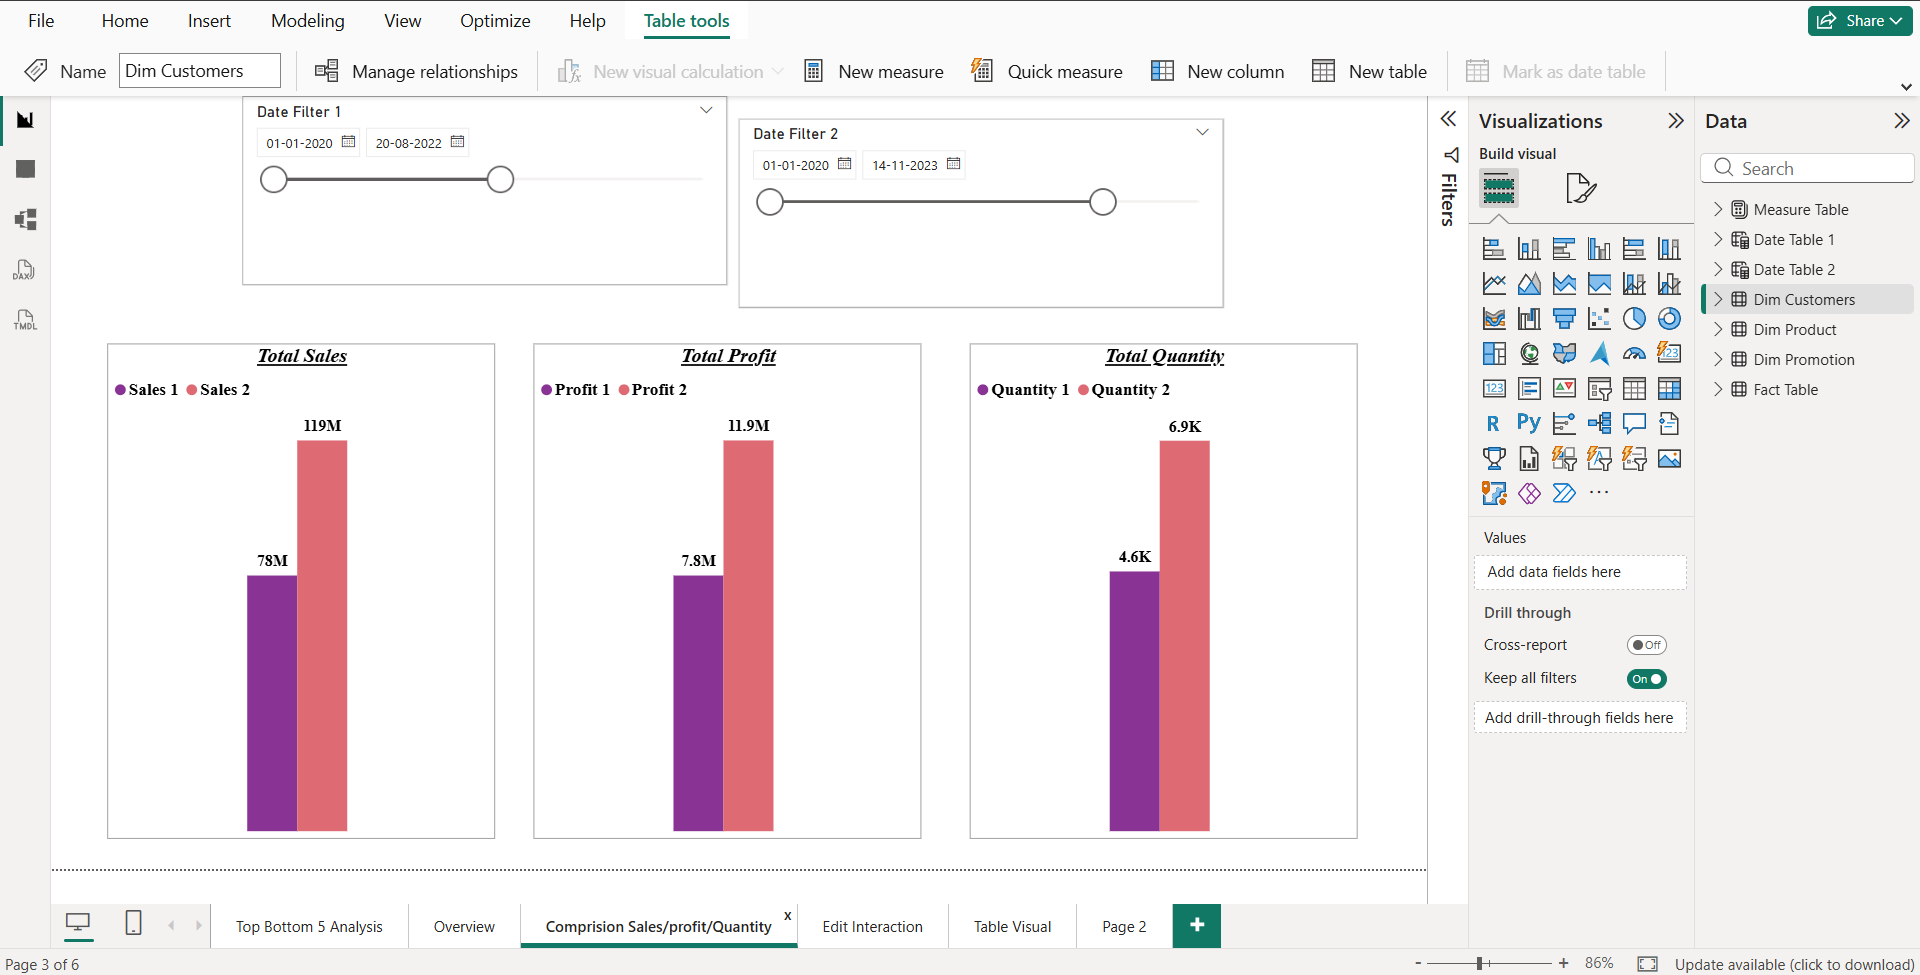

This screenshot's page, from the dashboard's own definition file:
{"tool":"powerbi","page":{"name":"Comprision Sales/profit/Quantity","canvas":[1280,720],"ordinal":2},"visuals":[{"type":"slicer","fields":{"Values":["Date Table 1.Date"]},"box":[178.4,0,451.5,175.6],"z":0},{"type":"slicer","fields":{"Values":["Date Table 2.Date"]},"box":[651.2,0,451.2,175.6],"z":1000},{"type":"clusteredColumnChart","title":"Total Sales","fields":{"Y":["Sum(Fact Table.Net Sales)","Date Table 1.Sum of Net Sales"]},"box":[52.1,230.5,360.9,461.1],"z":2000},{"type":"clusteredColumnChart","title":"Total Profit","fields":{"Y":["Sum(Fact Table.Profit)","Measure Table.Total Profit"]},"box":[448.7,230.5,360.9,461.1],"z":3000},{"type":"clusteredColumnChart","title":"Total Quantity","fields":{"Y":["Sum(Fact Table.Units Sold)","Measure Table.Total Quantity"]},"box":[854.9,230.5,360.9,461.1],"z":4000}]}

Visuals, with their boxes on the page's 1280x720 design canvas (x1, y1, x2, y2). These are canvas units, not pixel positions in the 1920x975 screenshot, which may show the page scaled, cropped or inside an application window:
slicer - Date Table 1.Date: bbox(178, 0, 630, 176)
slicer - Date Table 2.Date: bbox(651, 0, 1102, 176)
"Total Sales" clusteredColumnChart: bbox(52, 230, 413, 692)
"Total Profit" clusteredColumnChart: bbox(449, 230, 810, 692)
"Total Quantity" clusteredColumnChart: bbox(855, 230, 1216, 692)
